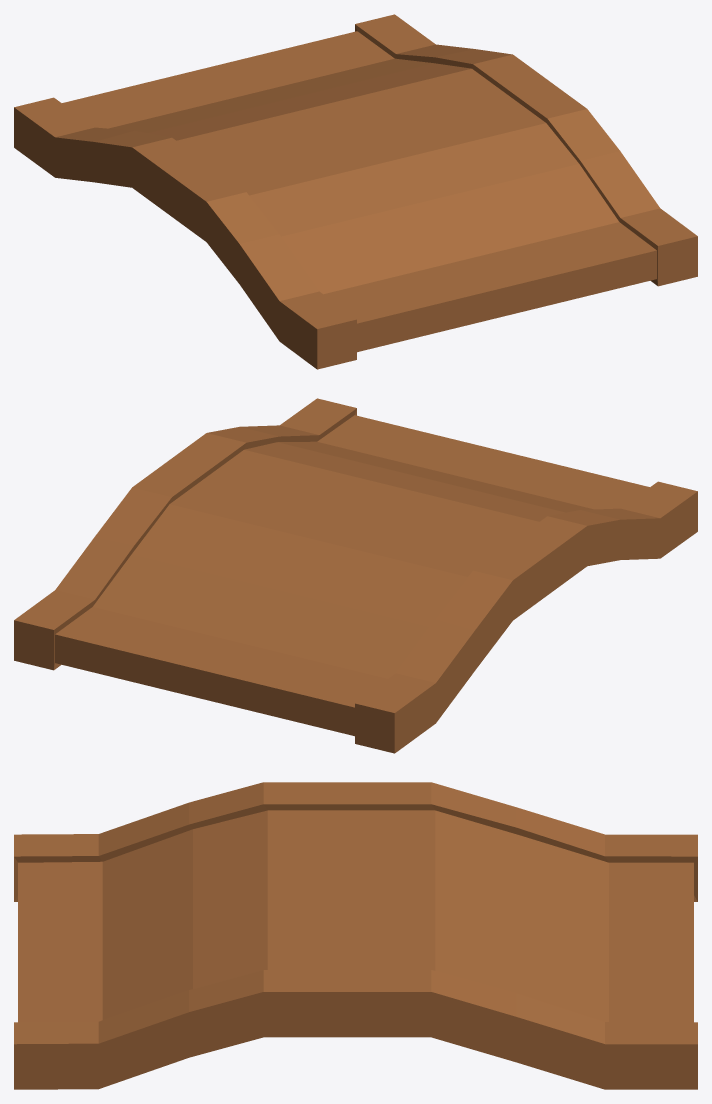
The model's file is LD_Bridge.fbx.
The picture shows the model from 3 angles, top to bottom: view 1: azimuth 30°, elevation 25°; view 2: azimuth 150°, elevation 25°; view 3: azimuth 270°, elevation 25°; orthographic projection. The views are drawn at different scales.
Visible parts, largest first — view 1: Plank; view 2: Plank; view 3: Plank.
Boxes of the visible parts, x1=… form: Plank: x1=14, y1=14, x2=697, y2=369; Plank: x1=14, y1=398, x2=697, y2=753; Plank: x1=14, y1=782, x2=697, y2=1089.
Bounding box in the file's own units: 283 × 61.62 × 390.
